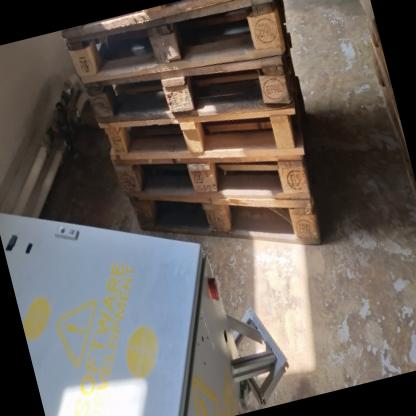BoxFace: (84, 25, 294, 123), (112, 105, 314, 202), (61, 0, 286, 82), (104, 70, 305, 157), (129, 198, 322, 241)
